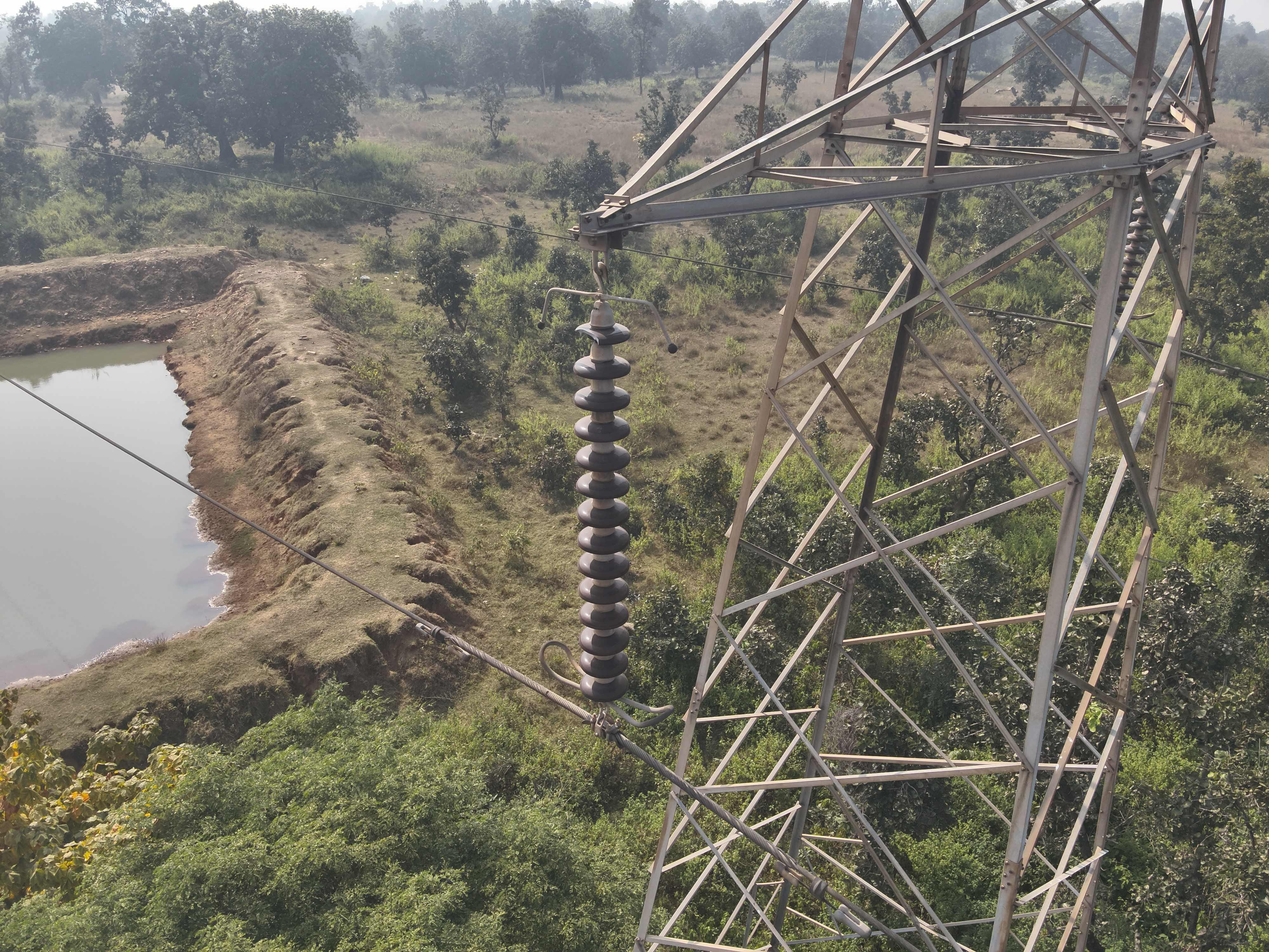broken_insulator: (573, 311, 637, 352)
